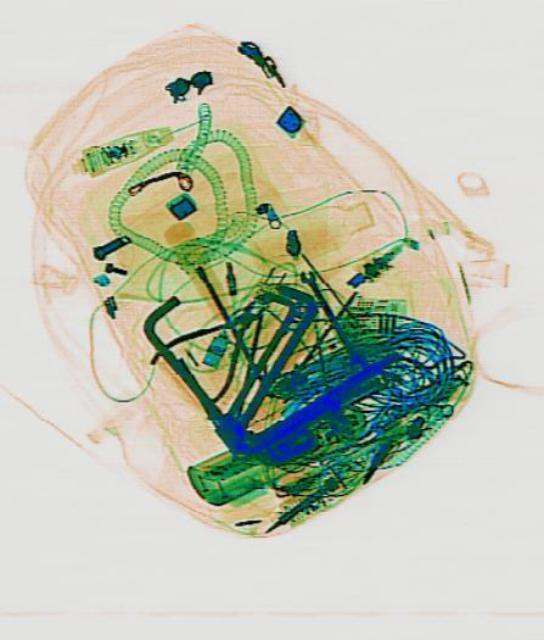Pliers: (144, 264, 290, 418)
Wrench: (293, 264, 361, 360)
